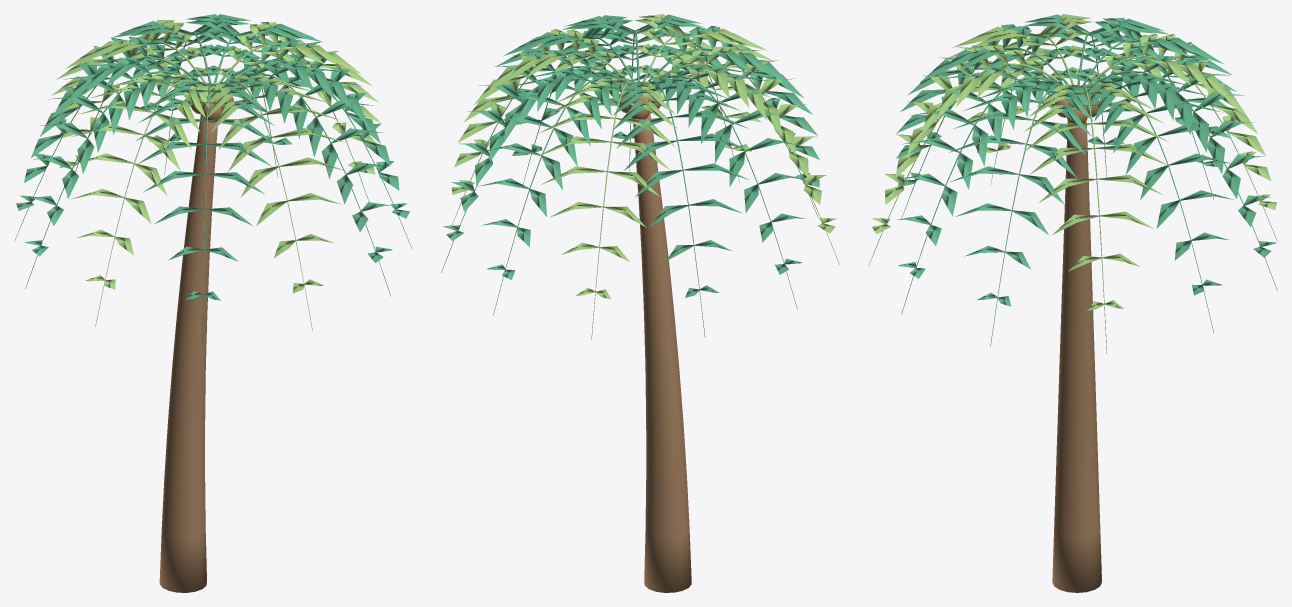
Rendered from palm_tall.glb.
3 renders of one model, left to right at view 1: azimuth 30°, elevation 25°; view 2: azimuth 150°, elevation 25°; view 3: azimuth 270°, elevation 25°, orthographic. The views are drawn at different scales.
Parts seen in each view (by area): view 1: coconut-palm-tall; view 2: coconut-palm-tall; view 3: coconut-palm-tall.
Boxes of the visible parts, x1=… form: coconut-palm-tall: x1=14, y1=14, x2=412, y2=592; coconut-palm-tall: x1=441, y1=14, x2=839, y2=592; coconut-palm-tall: x1=868, y1=14, x2=1277, y2=592.
Bounding box in the file's own units: 5.99 × 8.59 × 5.93.
